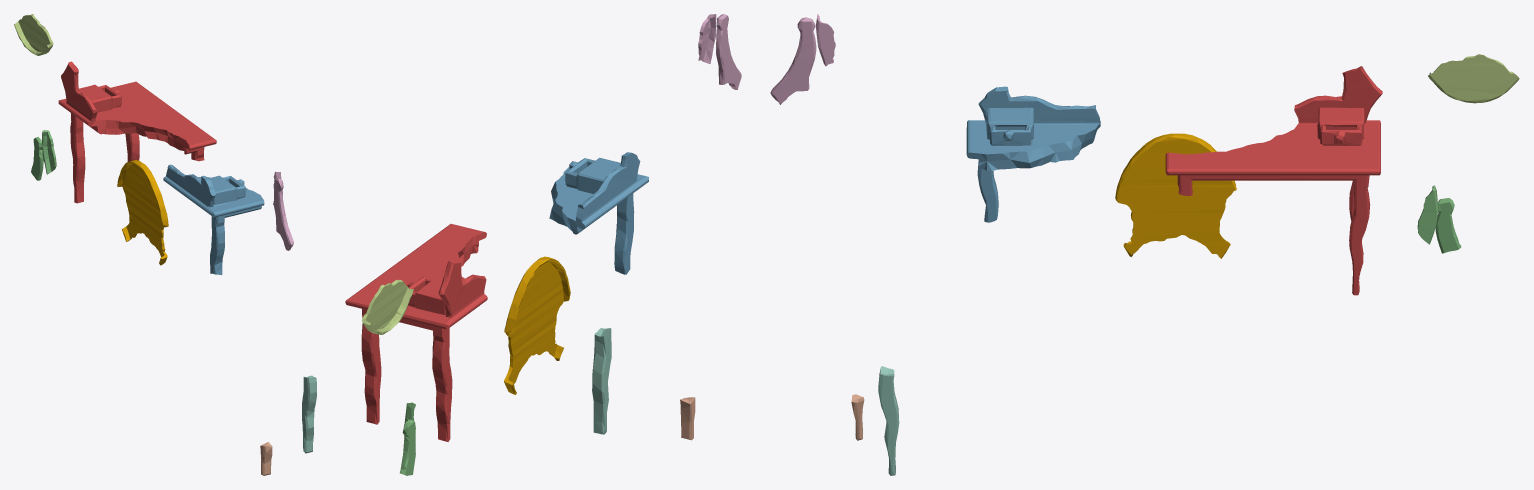
The model's file is mode_12_8pcs_transformed.glb.
3 views of the same model, side by side, from view 1: azimuth 30°, elevation 25°; view 2: azimuth 150°, elevation 25°; view 3: azimuth 270°, elevation 25° (orthographic). The views are drawn at different scales.
Parts seen in each view (by area): view 1: piece_1.obj, piece_2.obj, piece_0.obj, piece_5.obj, piece_4.obj, piece_3.obj, piece_6.obj, piece_7.obj; view 2: piece_1.obj, piece_2.obj, piece_0.obj, piece_6.obj, piece_5.obj, piece_4.obj, piece_3.obj, piece_7.obj; view 3: piece_1.obj, piece_2.obj, piece_0.obj, piece_5.obj, piece_6.obj, piece_3.obj, piece_4.obj.
Part boxes in pixels (left/top/right/bottom): piece_1.obj: left=58, top=61, right=216, bottom=203; piece_2.obj: left=163, top=164, right=264, bottom=275; piece_0.obj: left=117, top=160, right=168, bottom=265; piece_5.obj: left=14, top=14, right=53, bottom=55; piece_4.obj: left=302, top=375, right=316, bottom=453; piece_3.obj: left=31, top=130, right=56, bottom=180; piece_6.obj: left=273, top=171, right=293, bottom=250; piece_7.obj: left=260, top=442, right=272, bottom=475; piece_1.obj: left=345, top=224, right=487, bottom=441; piece_2.obj: left=549, top=152, right=648, bottom=274; piece_0.obj: left=504, top=256, right=570, bottom=394; piece_6.obj: left=698, top=14, right=741, bottom=89; piece_5.obj: left=362, top=280, right=413, bottom=334; piece_4.obj: left=592, top=328, right=611, bottom=434; piece_3.obj: left=400, top=402, right=415, bottom=475; piece_7.obj: left=680, top=397, right=695, bottom=440; piece_1.obj: left=1165, top=66, right=1382, bottom=295; piece_2.obj: left=966, top=86, right=1100, bottom=222; piece_0.obj: left=1115, top=133, right=1236, bottom=258; piece_5.obj: left=1428, top=54, right=1519, bottom=103; piece_6.obj: left=770, top=14, right=835, bottom=104; piece_3.obj: left=1417, top=185, right=1461, bottom=253; piece_4.obj: left=878, top=366, right=899, bottom=475.
Bounding box in the file's own units: 0.3649 × 1.4 × 2.26.
